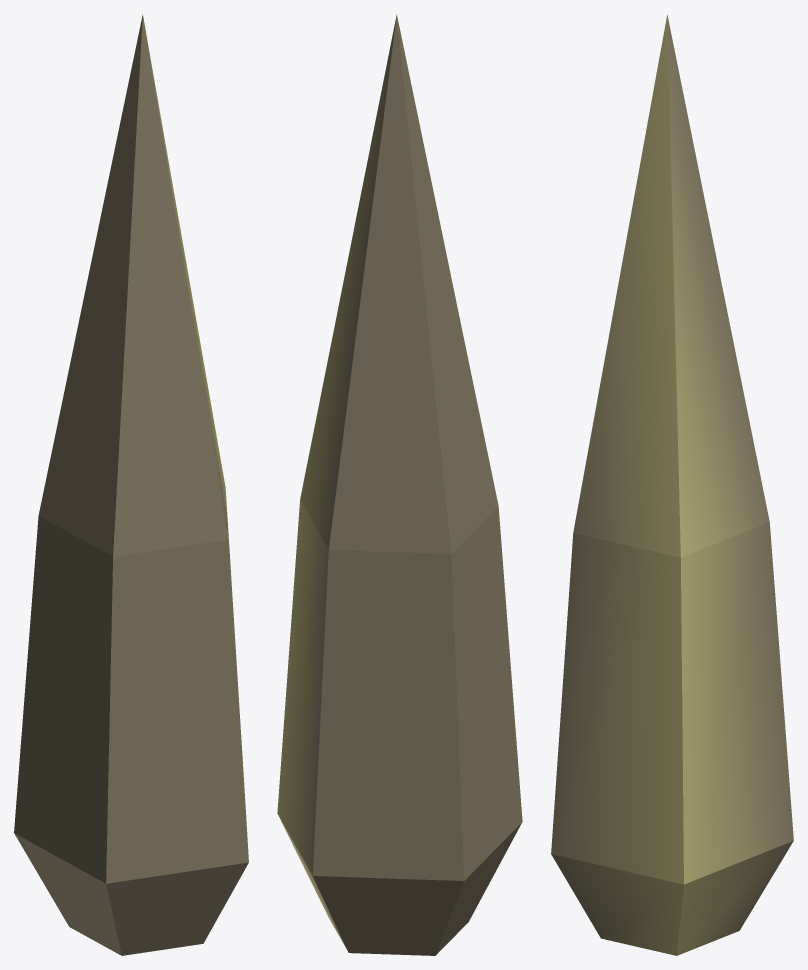
The model's file is Albedo_RiteOfProgenitureCast_BurstUpwardRock.fbx.
3 renders of one model, left to right at view 1: azimuth 30°, elevation 25°; view 2: azimuth 150°, elevation 25°; view 3: azimuth 270°, elevation 25°, orthographic.
Visible parts, largest first — view 1: PART_BurstChiseledGoldenRock; view 2: PART_BurstChiseledGoldenRock; view 3: PART_BurstChiseledGoldenRock.
Part boxes in pixels (x1,y1,x2,y2): PART_BurstChiseledGoldenRock: [14, 14, 248, 955]; PART_BurstChiseledGoldenRock: [277, 14, 522, 955]; PART_BurstChiseledGoldenRock: [551, 15, 793, 955].
Size of the model in its own units: 39.27 by 164 by 39.61.
